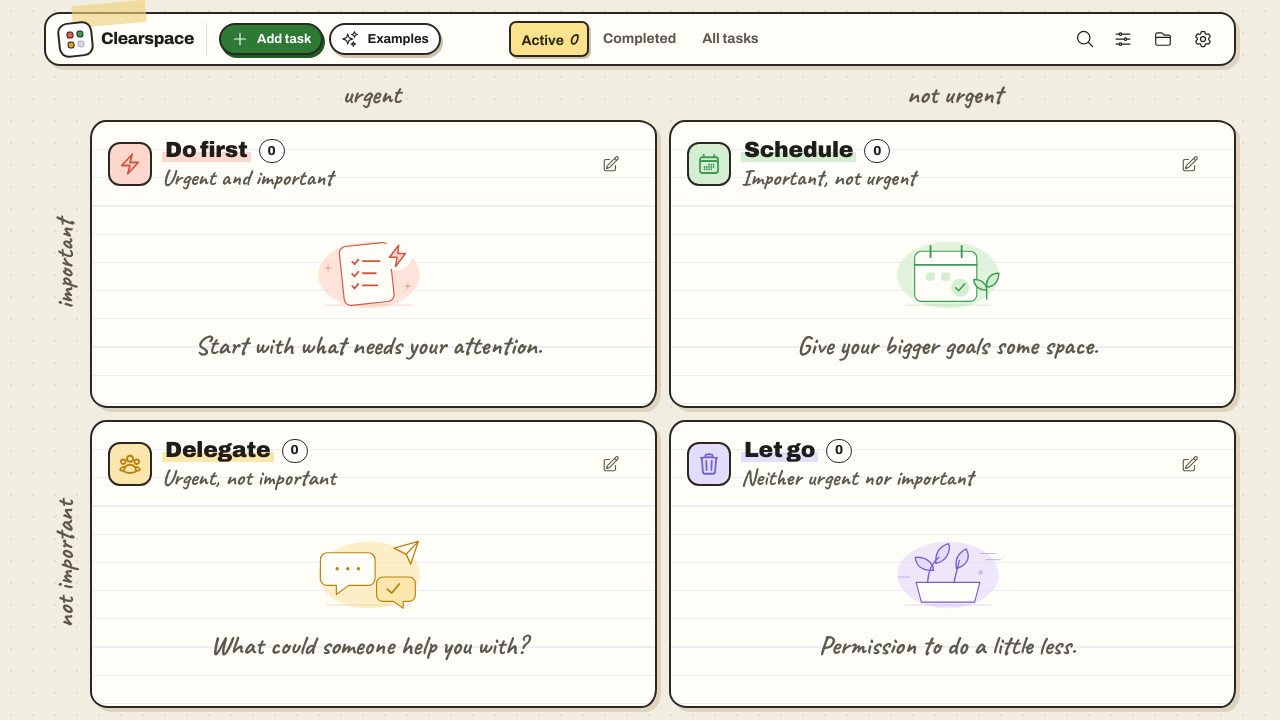
Test: saves typed US dates as the existing ISO storage format and reopens them formatted
Click the button with aria-label "Add your first task" at (271, 39), box [219,23,323,55]
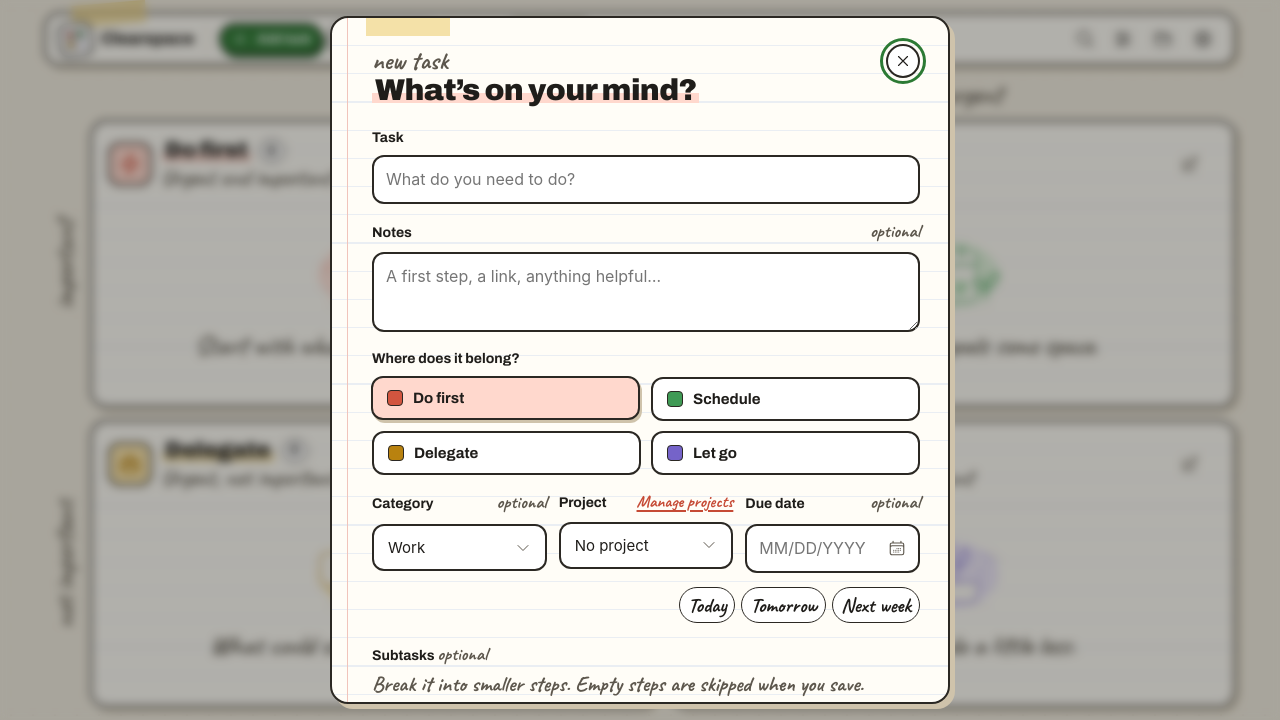
Type "Review budget" into the field labelled "Task" at (646, 180), box [372,155,920,204]
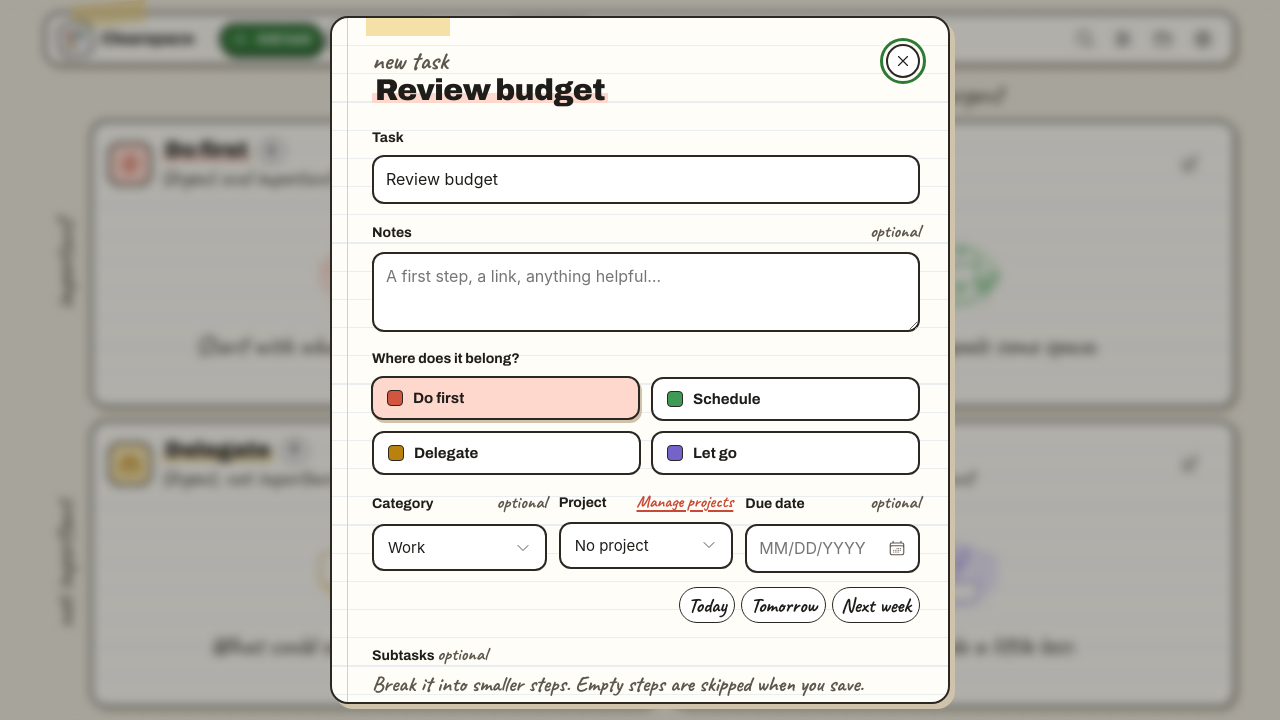
Type "10/30/2026" into the field labelled "Due date optional" at (833, 548), box [745,524,920,572]
(page scrolled)
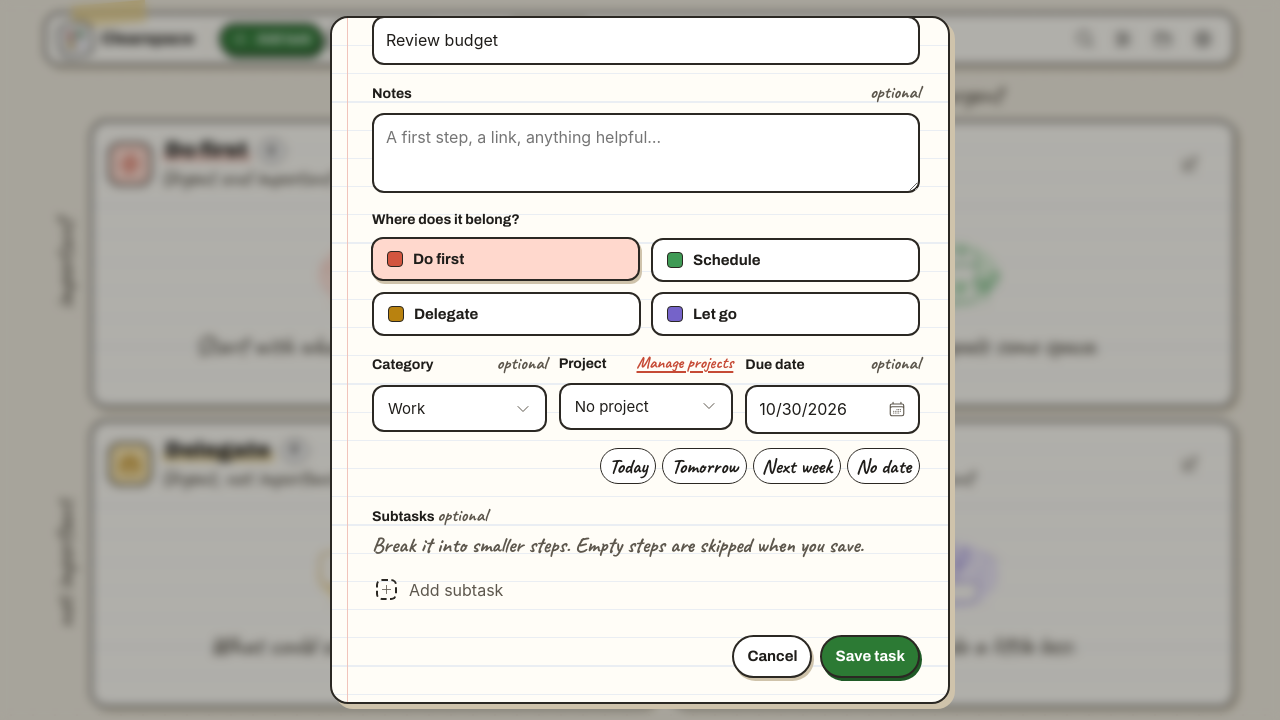
Click the button "Save task" at (870, 656), box [820,635,920,678]
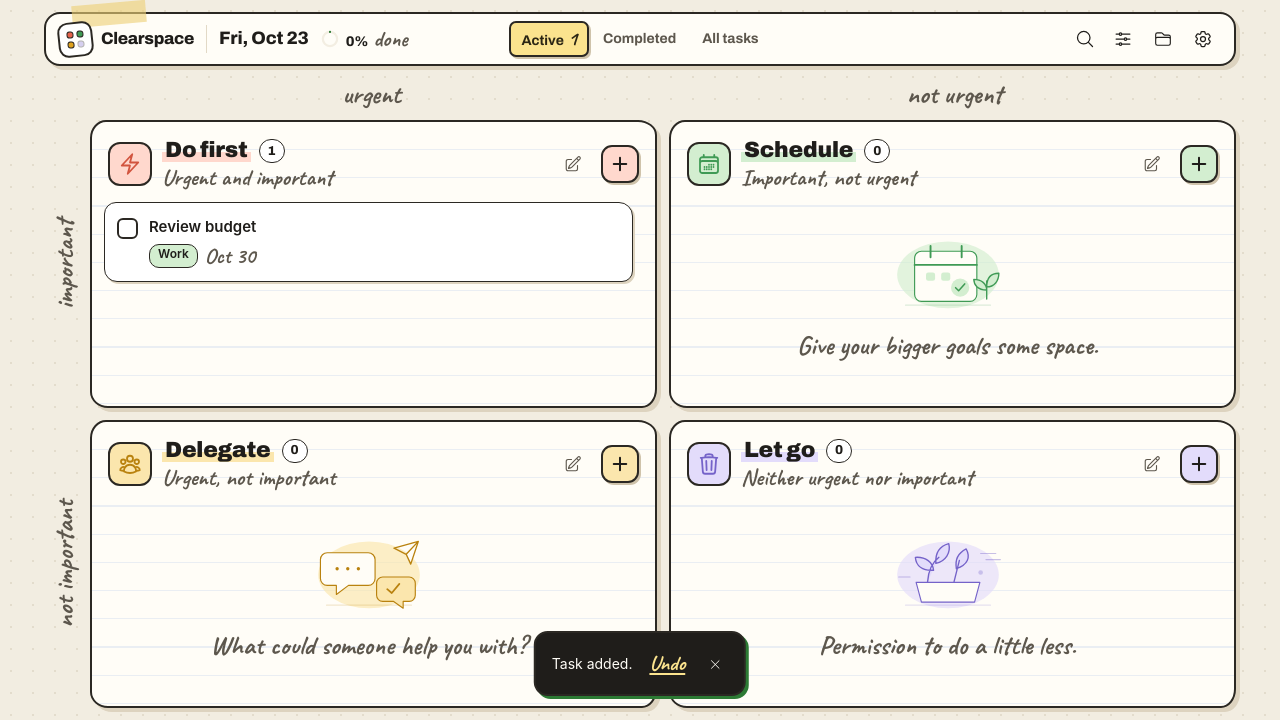
Click the button with aria-label "Edit Review budget" at (203, 226), box [149,215,620,269]
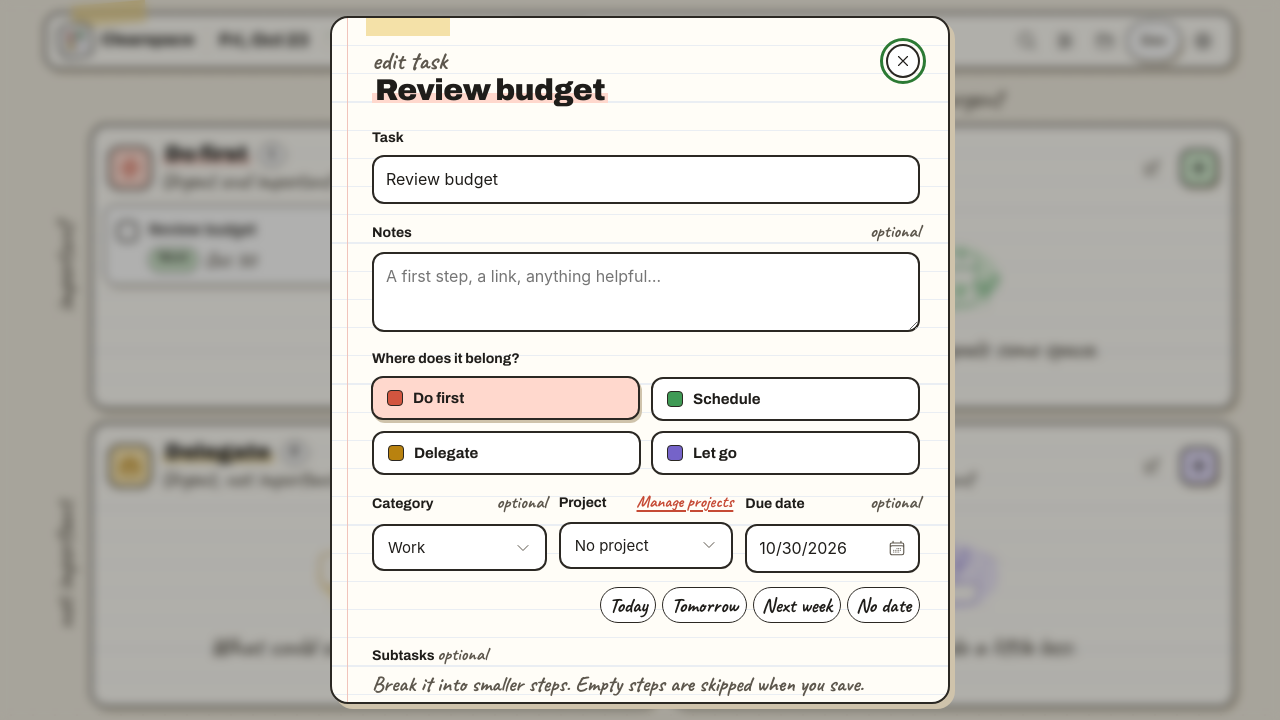
Expected: the field labelled "Due date optional" holds "10/30/2026", [745,524,920,572]
